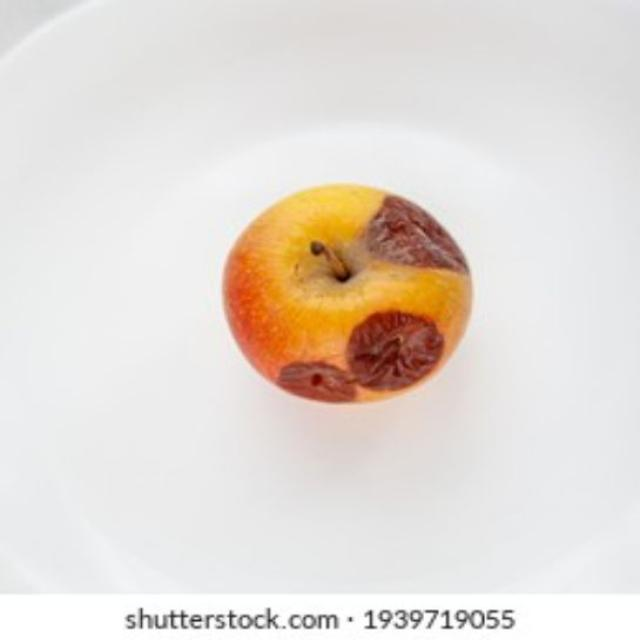Rotten Apple: (210, 168, 505, 426)
